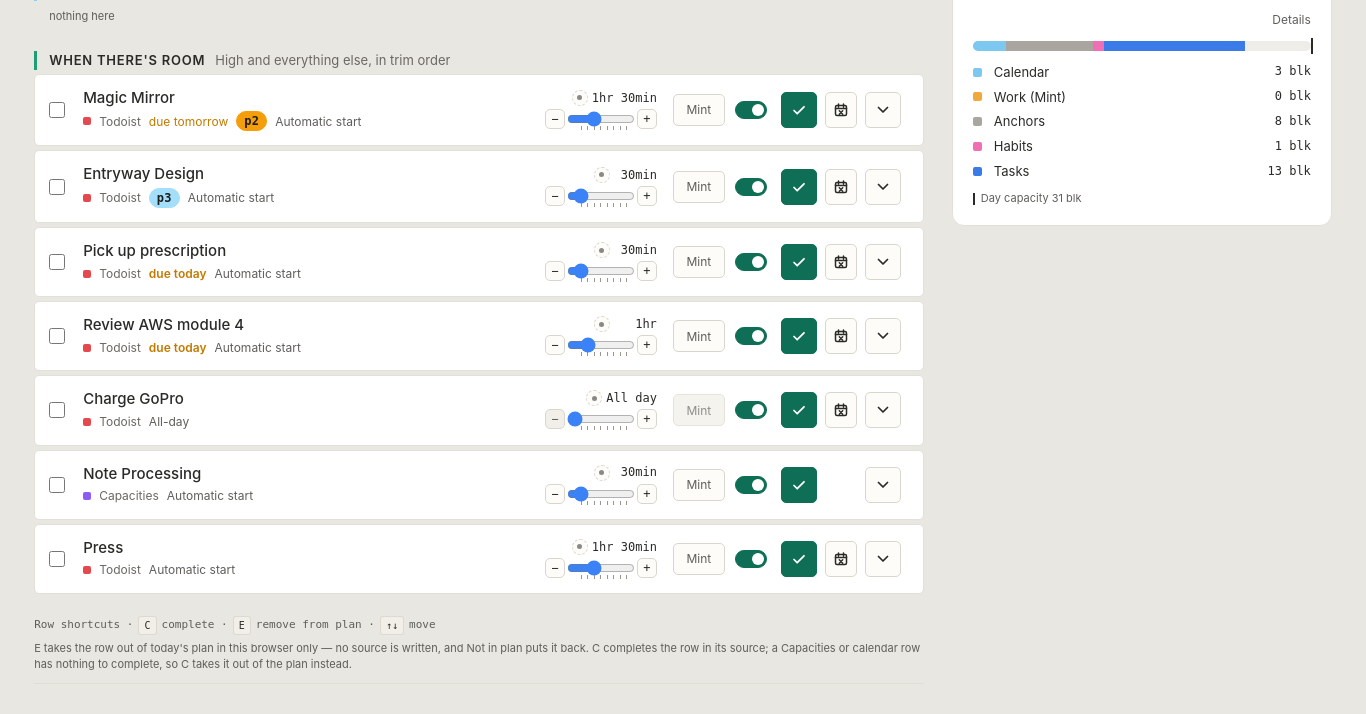
Test: time editor › applies a validated pin on Apply
(page scrolled)
Click the 7th button named "Expand".
click(883, 559)  # box [865,541,901,577]
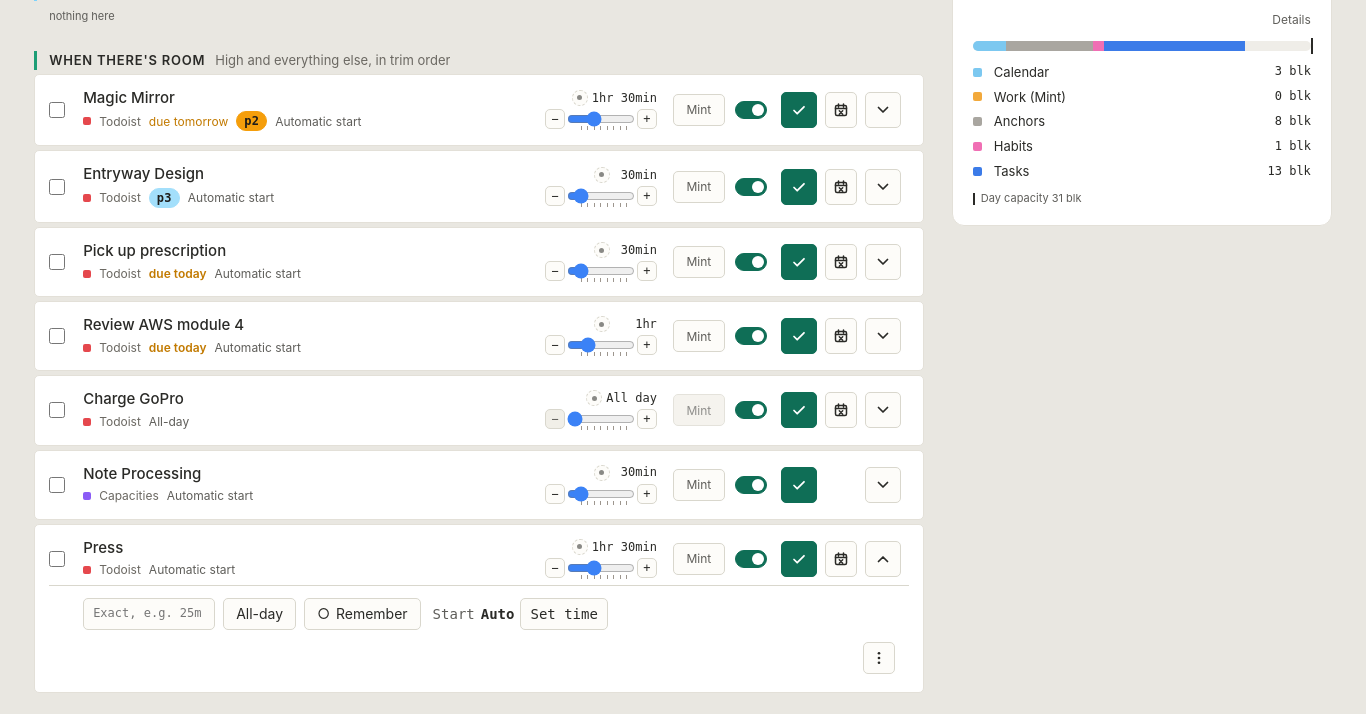
Click the button "Set time".
click(564, 614)  # box [520,598,608,630]
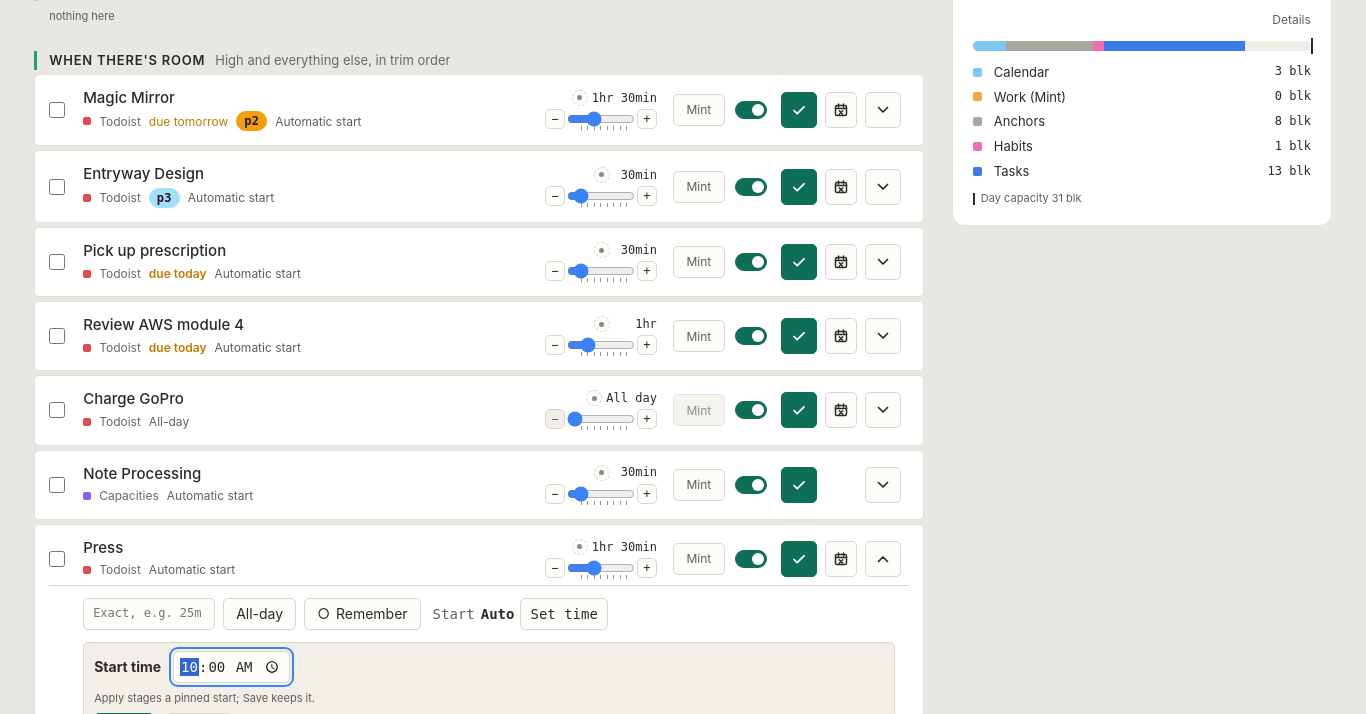
Clear the time field labelled "Start time" at (231, 667), box [173,651,290,683]
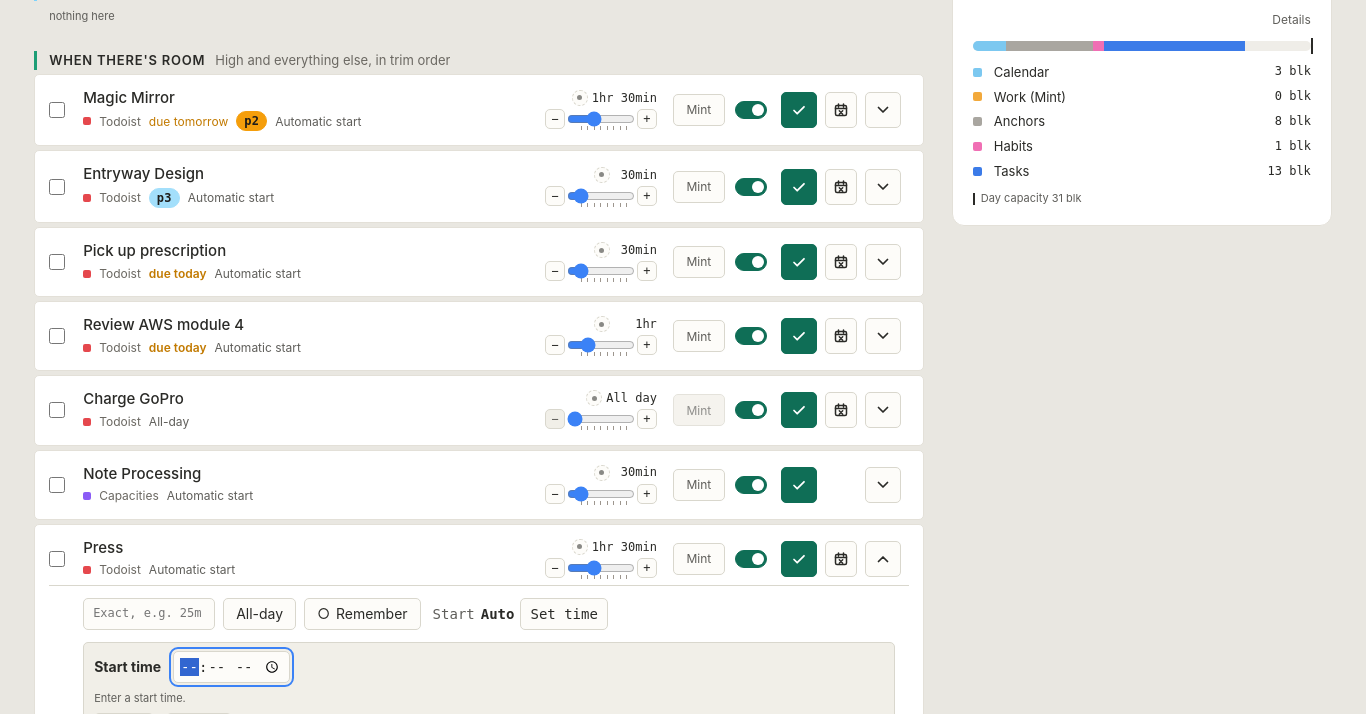
Type "13:30" into the time field labelled "Start time".
click(231, 667); type("13:30")  # box [173,651,290,683]
(page scrolled)
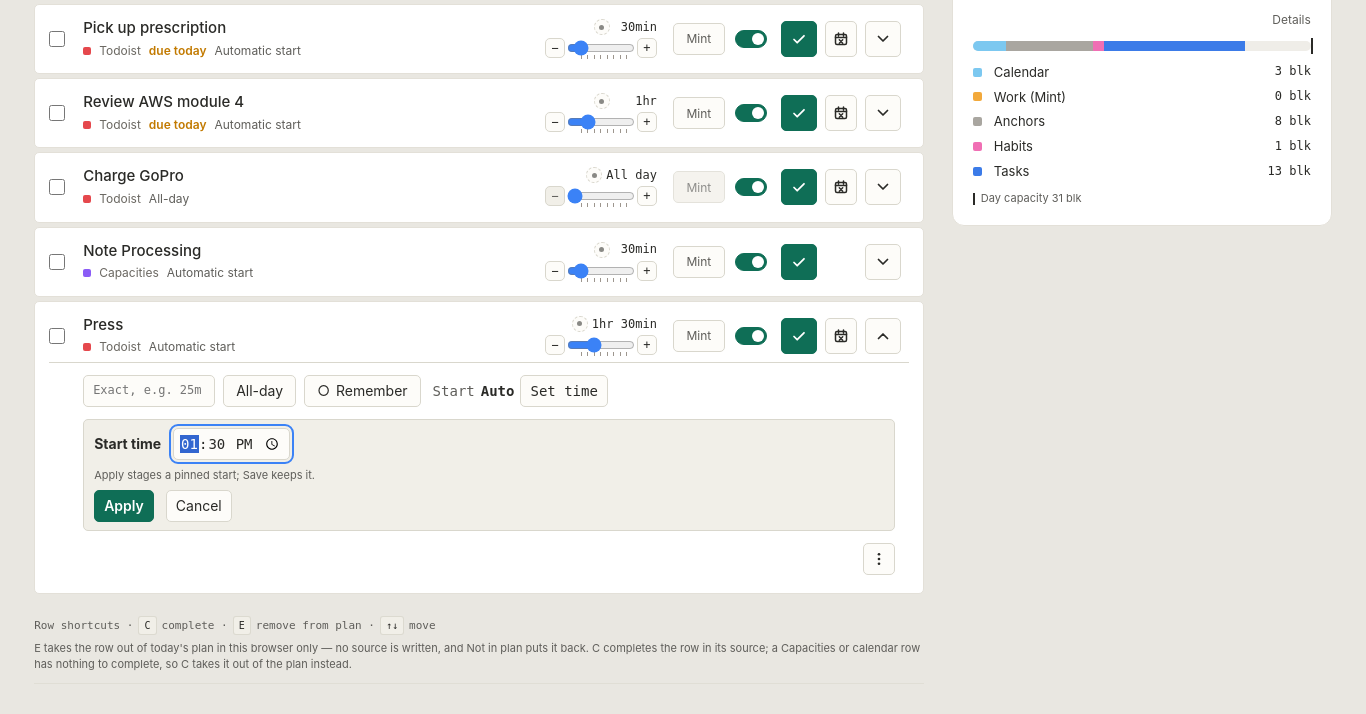
Expected: the button "Apply" is enabled
Click the button "Apply".
click(124, 506)  # box [94,490,154,522]
(page scrolled)
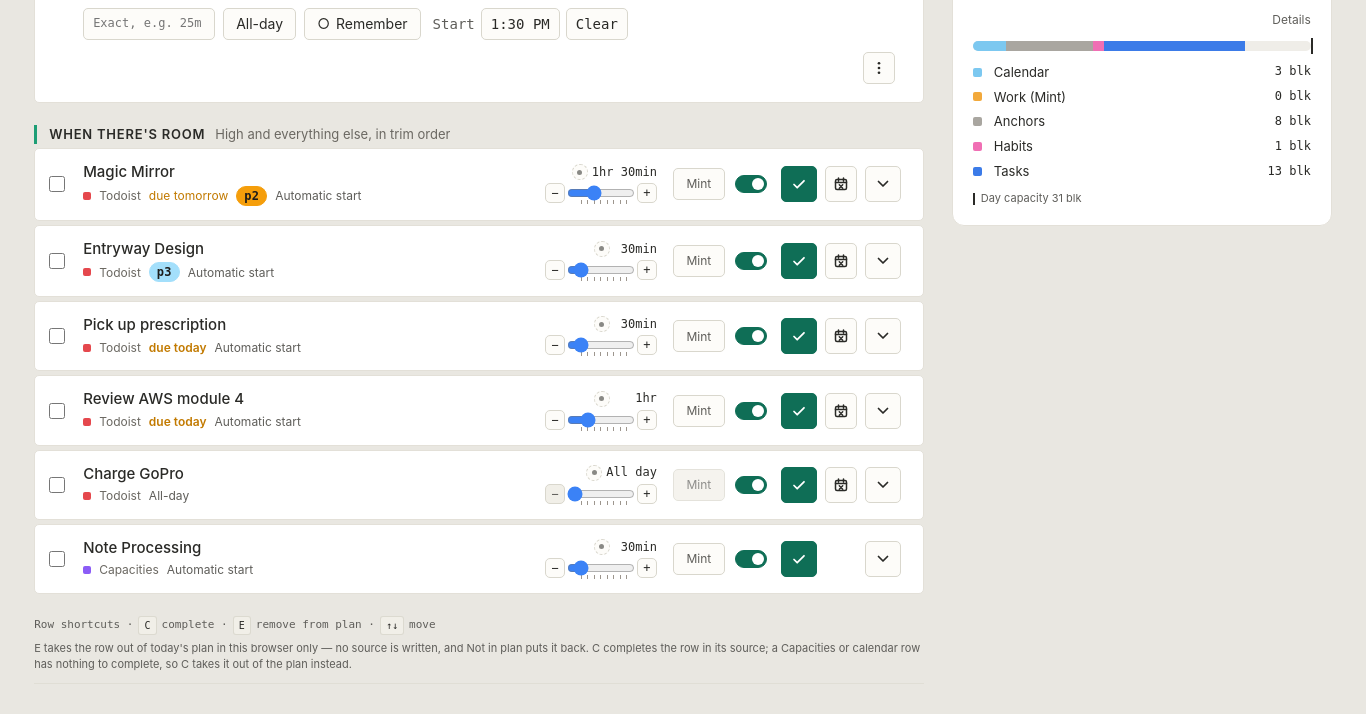
Expected: the element with class "trow__editor" is gone
Expected: the button "Clear" is shown, [566,8,628,40]
